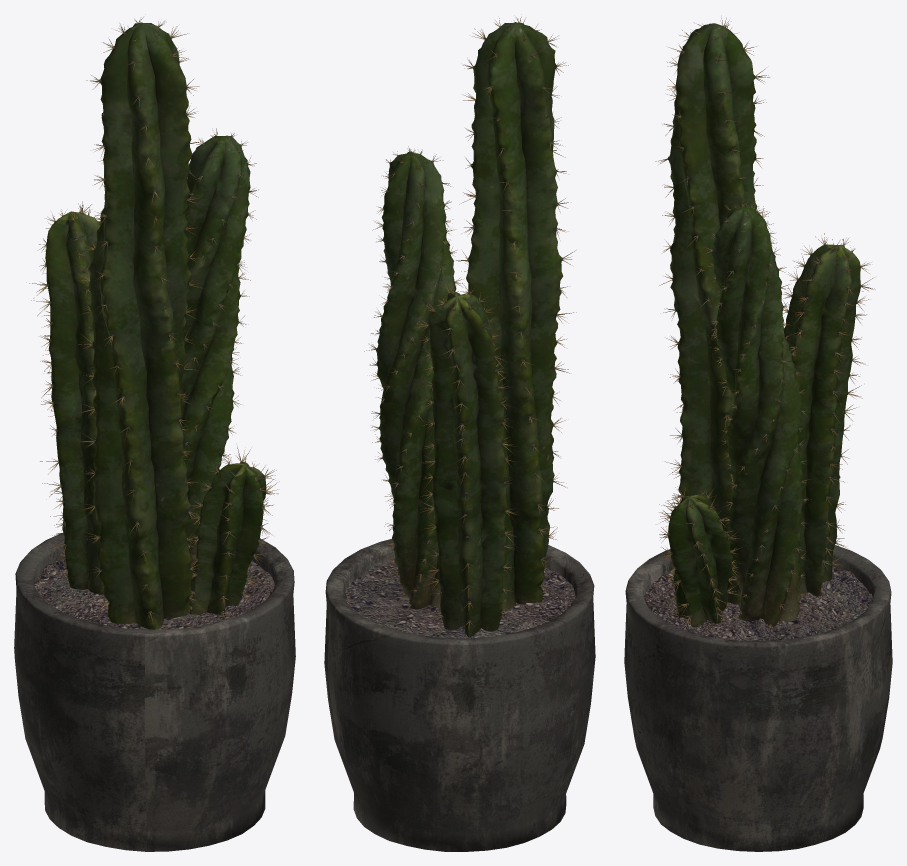
File: cactus.glb
3 views of the same model, side by side, from view 1: azimuth 30°, elevation 25°; view 2: azimuth 150°, elevation 25°; view 3: azimuth 270°, elevation 25° (orthographic). The views are drawn at different scales.
Parts seen in each view (by area): view 1: Pot Cactus; view 2: Pot Cactus; view 3: Pot Cactus.
Boxes of the visible parts, x1,y1,x2,y2 form: Pot Cactus: [14, 17, 295, 851]; Pot Cactus: [324, 17, 595, 851]; Pot Cactus: [624, 18, 892, 851].
Size of the model in its own units: 0.1191 by 0.3782 by 0.1191.
4 materials, 4 textured.
